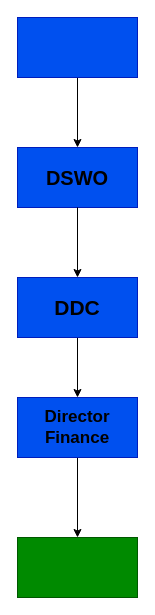
The diagram is 155 pixels wide and 615 high, and some of its shapes have lost their labels. The shapes that lost their labels are listed below. From the top down, each one's box as (x1, y1, x2, y2) in pixels, then its label:
(16, 16, 138, 78): Citizen
(16, 536, 138, 598): Sanction
